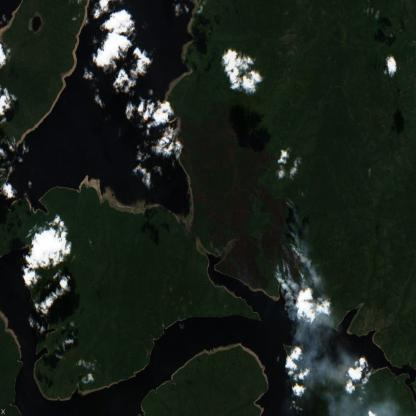fire: (255, 189, 315, 313)
